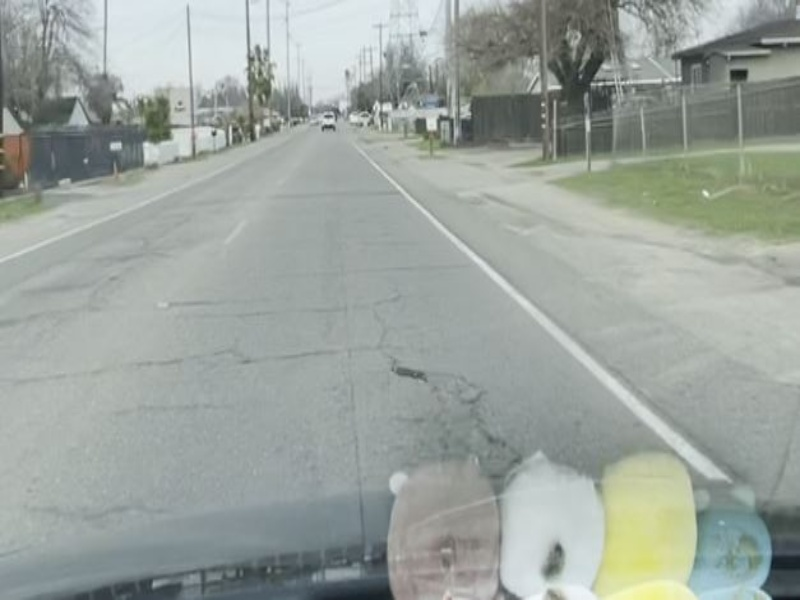pothole: (383, 363, 430, 387)
